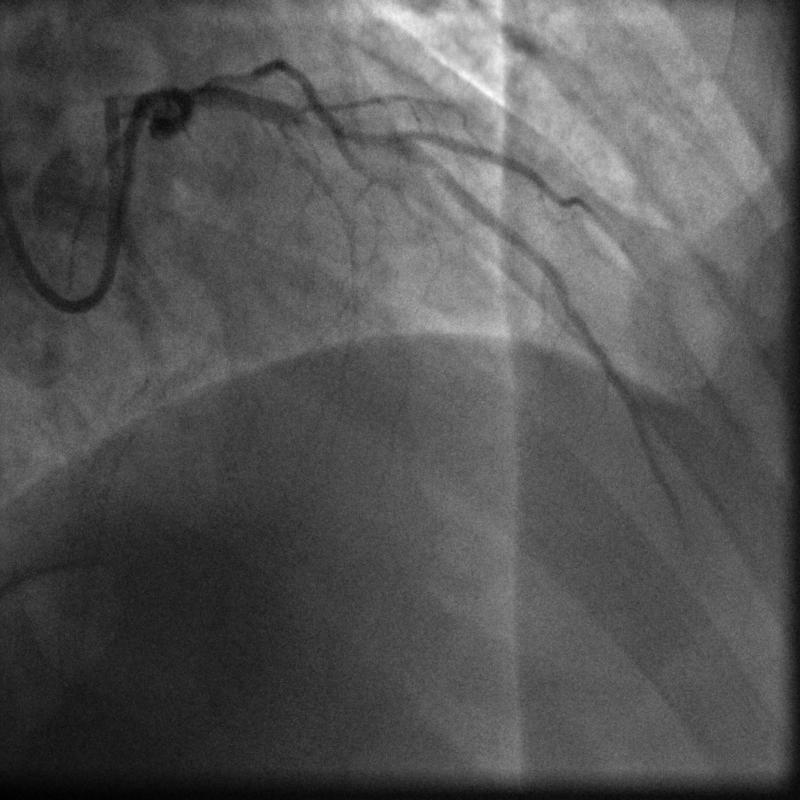Stenosis: (291, 115, 397, 150)
